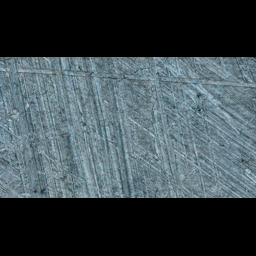d: (0, 87, 255, 161), (126, 57, 185, 198), (0, 61, 255, 91)
